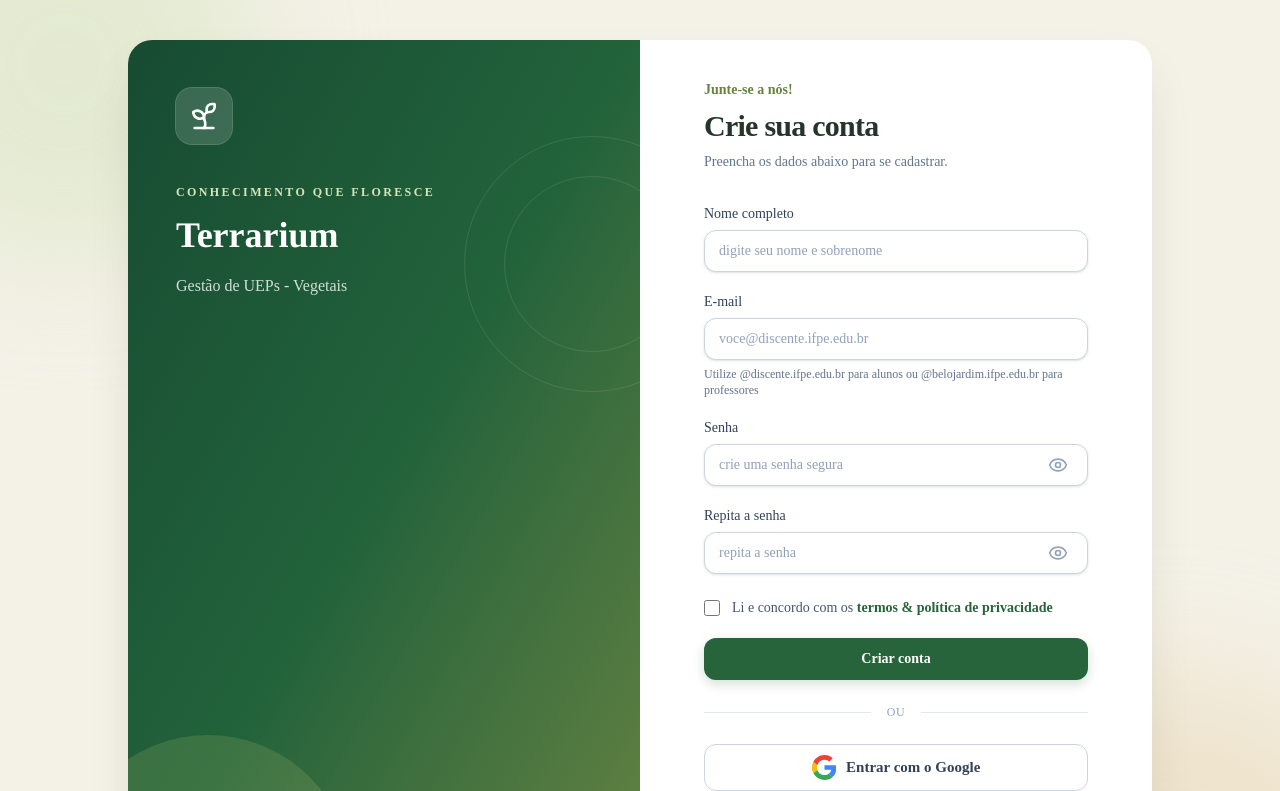
Scenario: RegisterPage › deve exibir erro se não aceitar os termos
Type "Isabela Santos" into the field labelled "Nome completo".
click(896, 251); type("Isabela Santos")  # box top-left (704, 230), bottom-right (1088, 272)
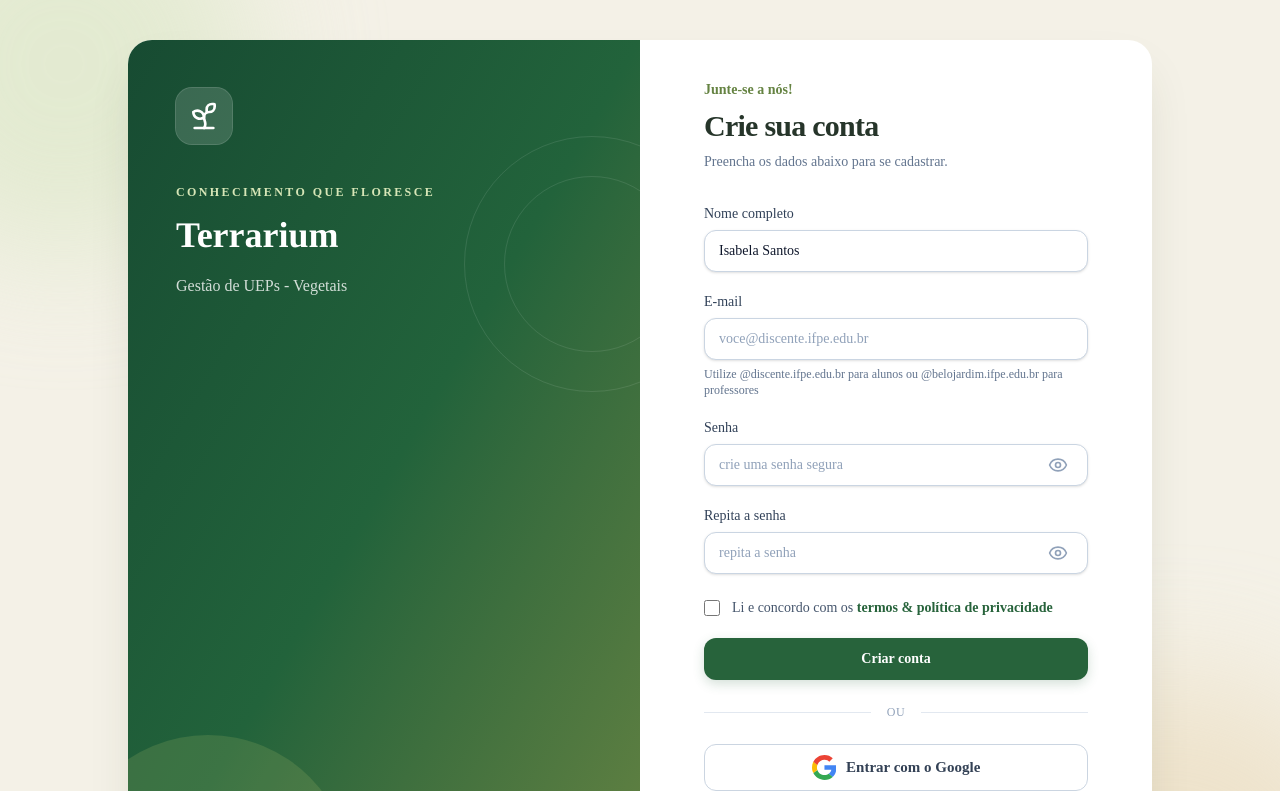
Type "isabela@discente.ifpe.edu.br" into the field labelled "E-mail".
click(896, 339); type("isabela@discente.ifpe.edu.br")  # box top-left (704, 318), bottom-right (1088, 360)
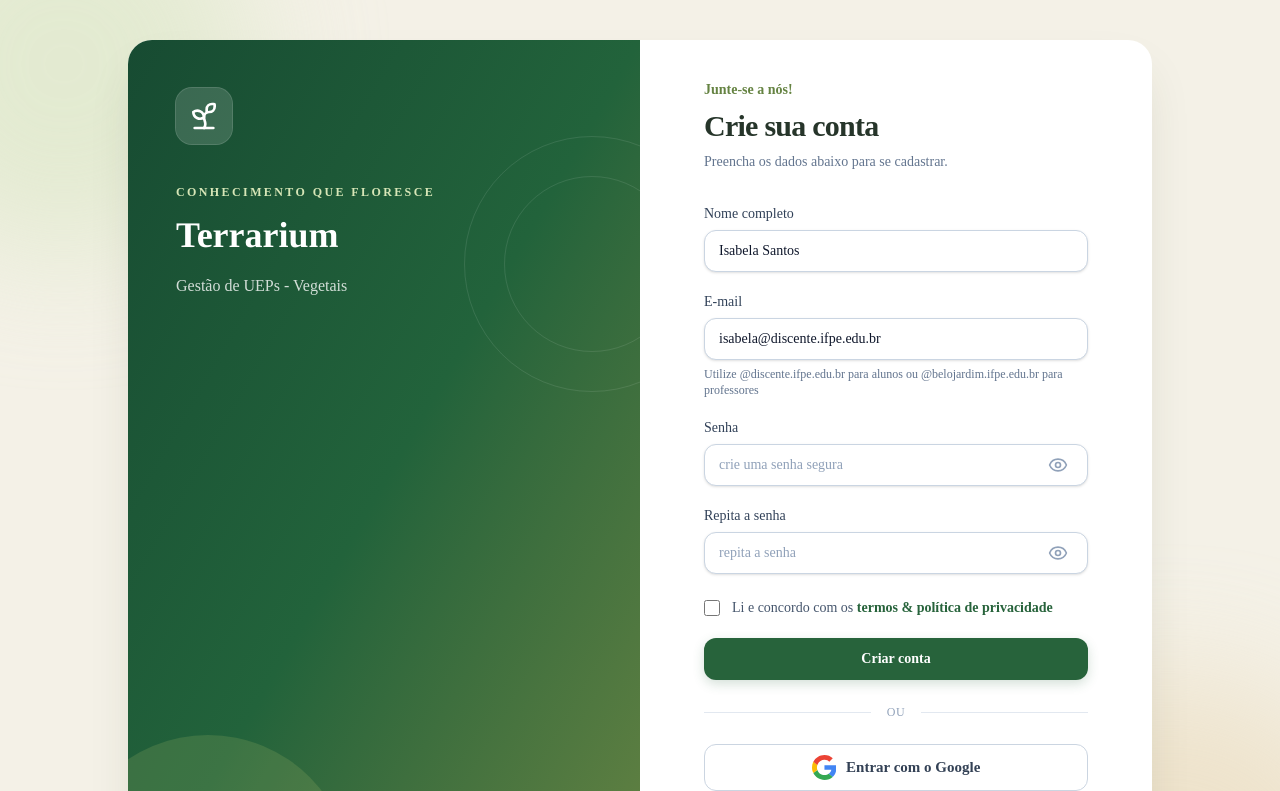
Type "SenhaValida123" into the password field labelled "Senha".
click(896, 465); type("SenhaValida123")  # box top-left (704, 444), bottom-right (1088, 486)
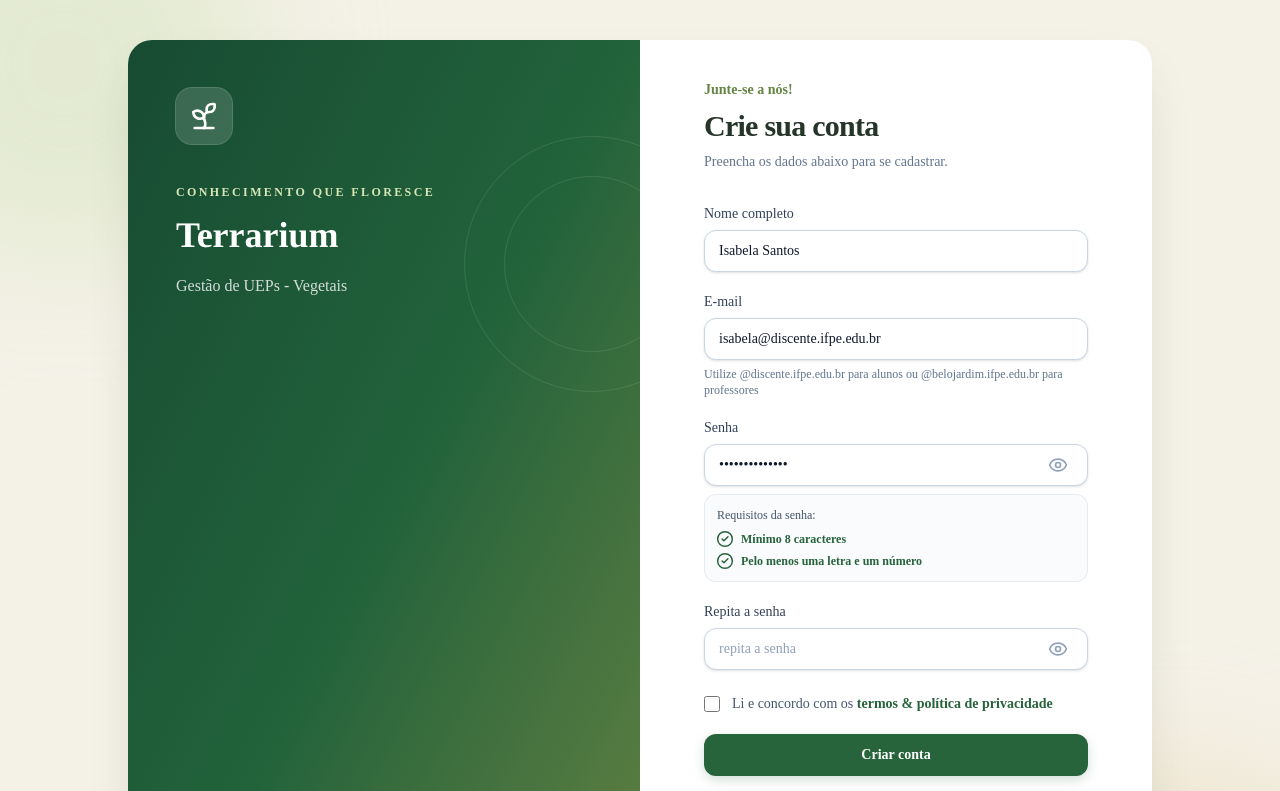
Type "SenhaValida123" into the password field labelled "Repita a senha".
click(896, 649); type("SenhaValida123")  # box top-left (704, 628), bottom-right (1088, 670)
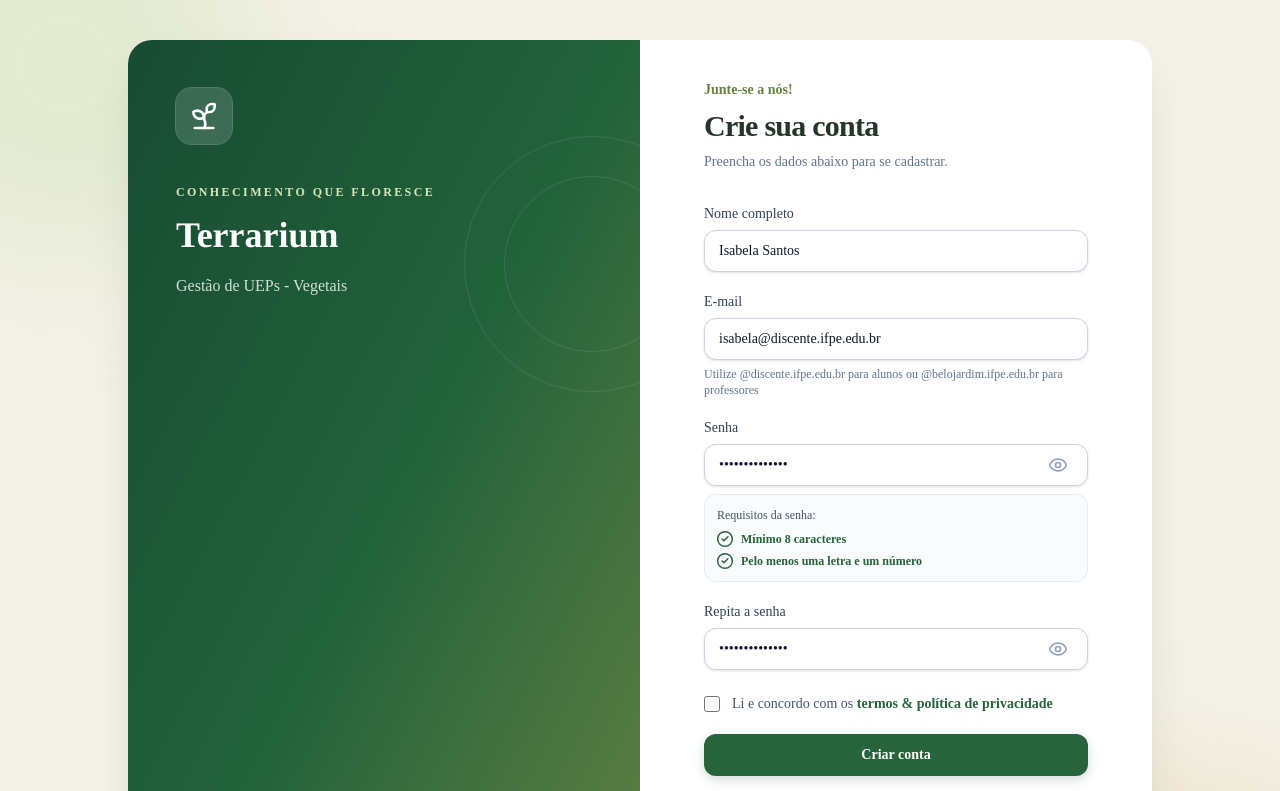
Click the button "Criar conta".
click(896, 755)  # box top-left (704, 734), bottom-right (1088, 776)
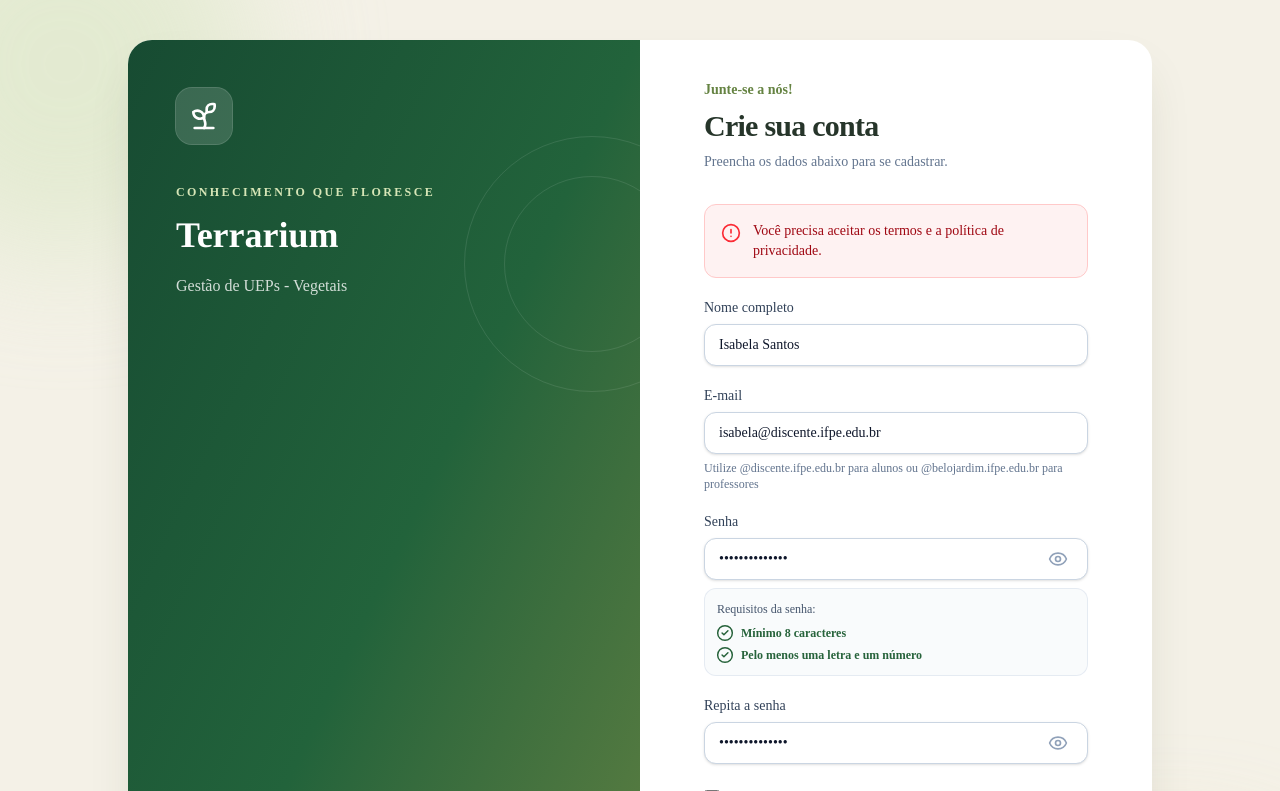
Expected: the text "Você precisa aceitar os termos e a política de privacidade." is shown, top-left (753, 223), bottom-right (1004, 258)
